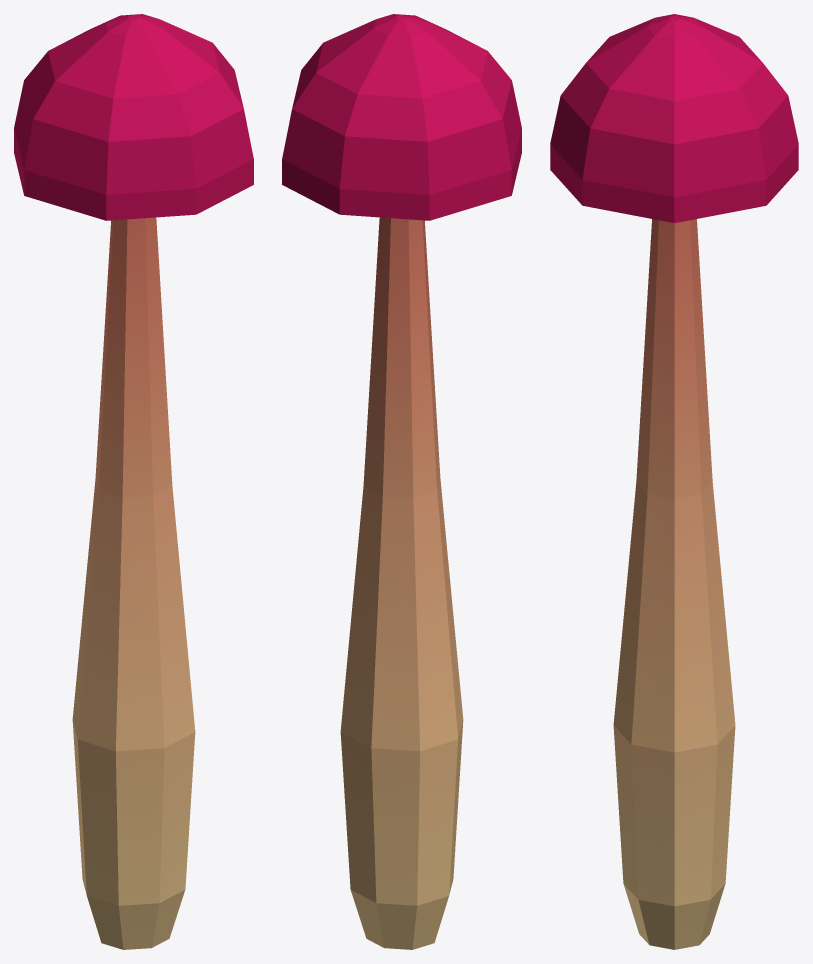
Rendered from Cavern_Mushroom_Skeeny02.fbx.
The picture shows the model from 3 angles, left to right: view 1: azimuth 30°, elevation 25°; view 2: azimuth 150°, elevation 25°; view 3: azimuth 270°, elevation 25°; orthographic projection.
Visible parts, largest first — view 1: Cylinder.207; view 2: Cylinder.207; view 3: Cylinder.207.
Part boxes in pixels (bbox=[...]): Cylinder.207: bbox=[14, 14, 253, 949]; Cylinder.207: bbox=[282, 14, 521, 949]; Cylinder.207: bbox=[550, 14, 798, 949].
Bounding box in the file's own units: 10.01 × 39.98 × 9.84.
